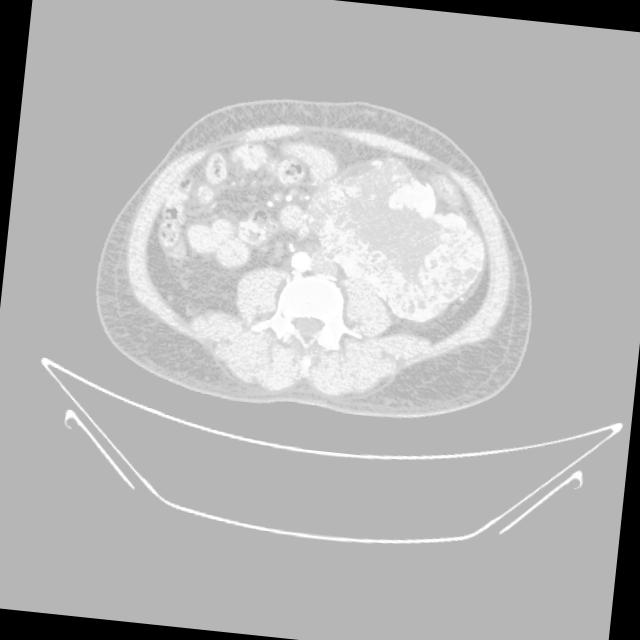TUMOR: (117, 121, 501, 327)
